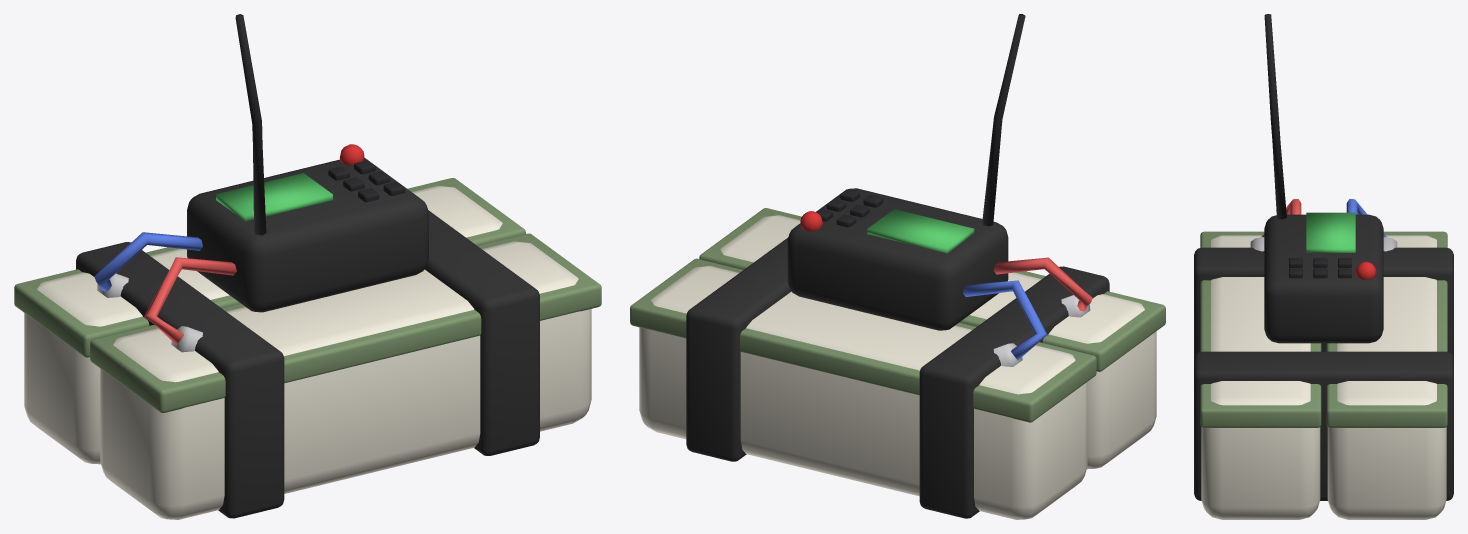
3 views of the same model, side by side, from view 1: azimuth 30°, elevation 25°; view 2: azimuth 150°, elevation 25°; view 3: azimuth 270°, elevation 25° (orthographic). The views are drawn at different scales.
Visible parts, largest first — view 1: SM_C4; view 2: SM_C4; view 3: SM_C4.
Part boxes in pixels (left/top/right/bottom): SM_C4: left=14, top=14, right=601, bottom=519; SM_C4: left=630, top=14, right=1165, bottom=519; SM_C4: left=1194, top=14, right=1453, bottom=519.
Size of the model in its own units: 0.121 by 0.1207 by 0.074.
